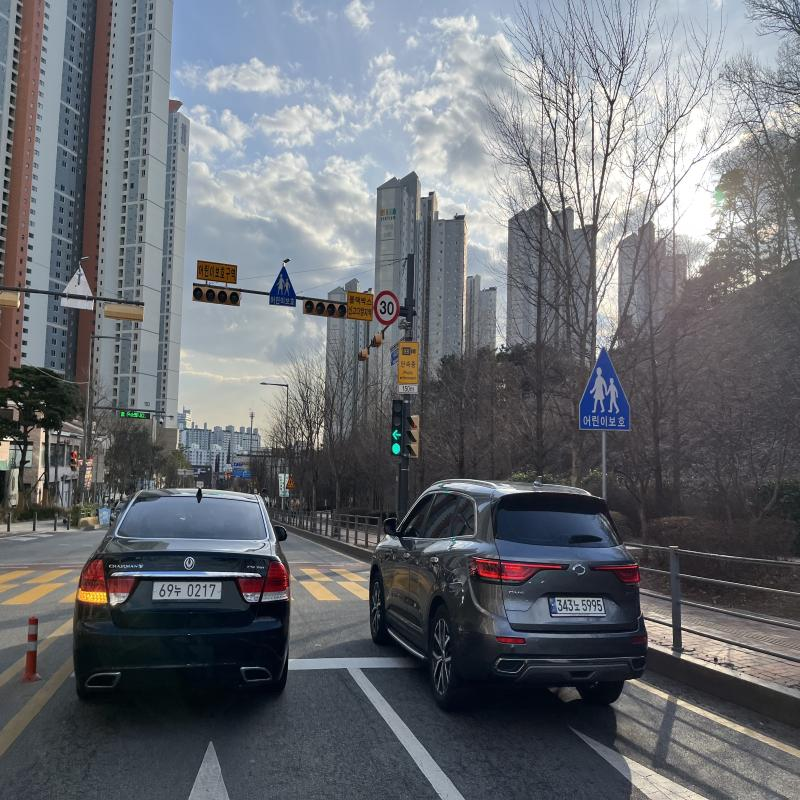green: (391, 443, 402, 456)
left: (391, 428, 402, 442)
